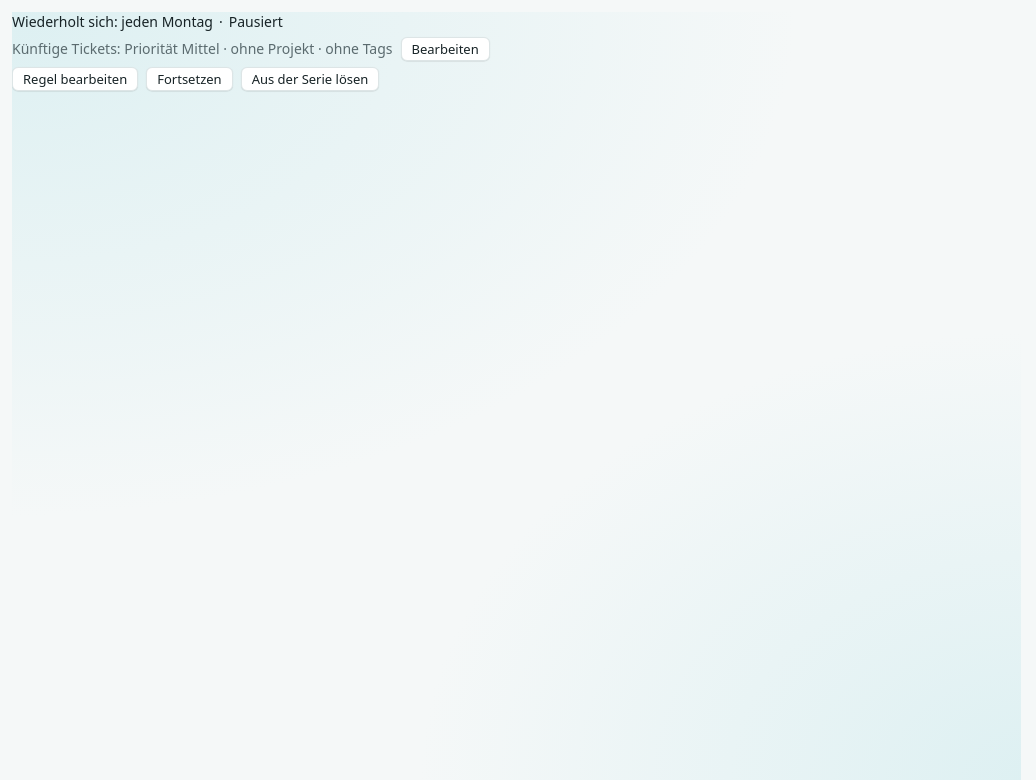
Test: RecurrenceSummary › shows a refused resume as an error with its reason
The image size is (1036, 780).
Click the button "Fortsetzen" at (189, 79), box [146, 67, 233, 91]
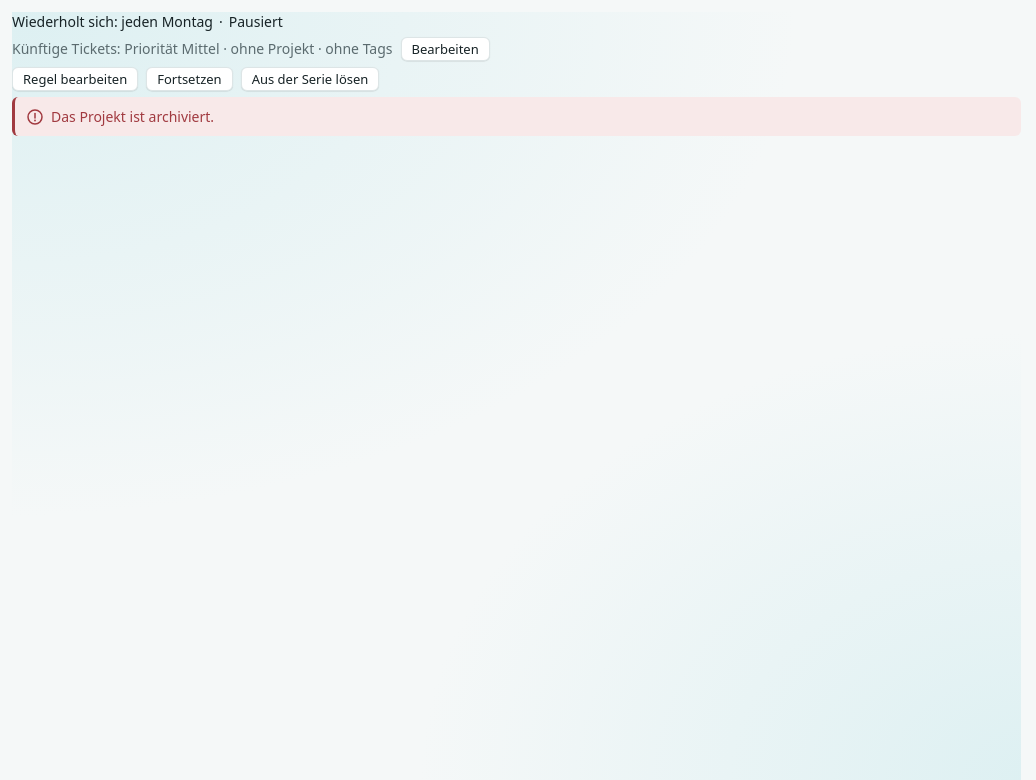
Expected: the message reads "Das Projekt ist archiviert.", [51, 107, 214, 126]
